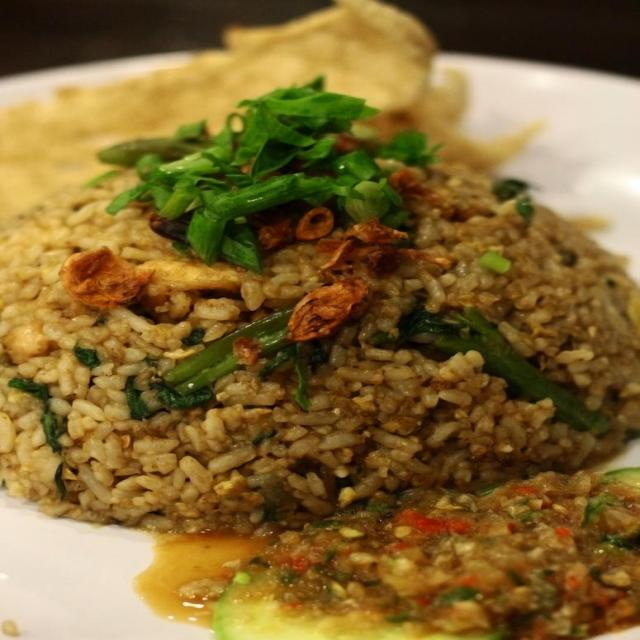Nasi Goreng: (0, 146, 636, 486)
